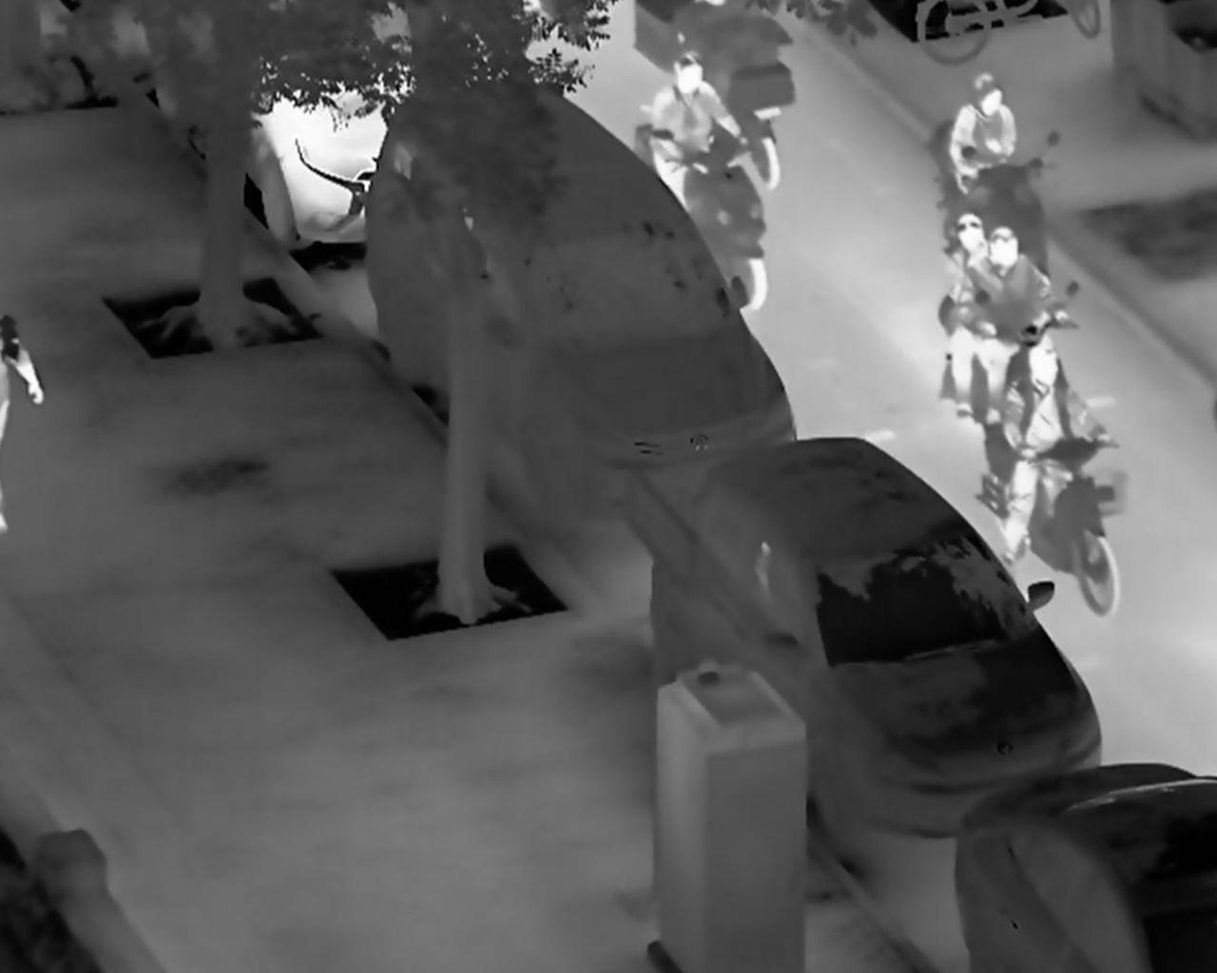person: (995, 325, 1113, 578), (966, 225, 1072, 431), (647, 48, 749, 214), (939, 212, 995, 419), (948, 68, 1026, 200)
